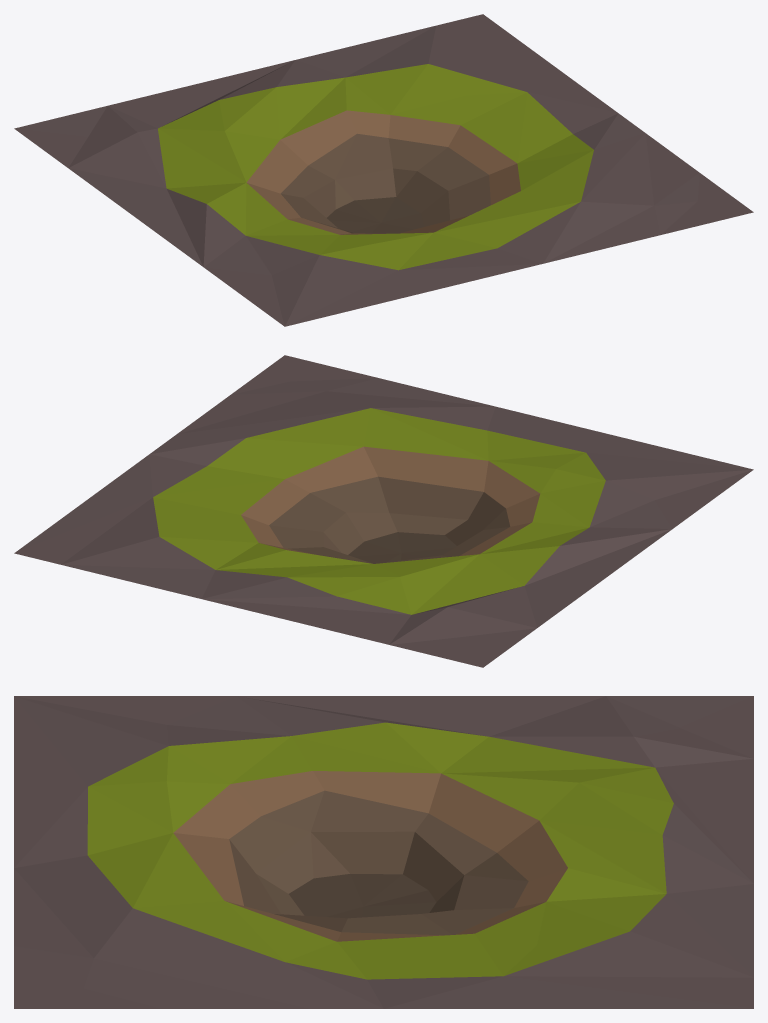
The model's file is TB_D_Env_Tile_Oasis_C.FBX.
3 views of the same model, one above another, from view 1: azimuth 30°, elevation 25°; view 2: azimuth 150°, elevation 25°; view 3: azimuth 270°, elevation 25° (orthographic). The views are drawn at different scales.
Parts seen in each view (by area): view 1: TB_D_Env_Tile_Oasis_C; view 2: TB_D_Env_Tile_Oasis_C; view 3: TB_D_Env_Tile_Oasis_C.
Part boxes in pixels (left/top/right/bottom): TB_D_Env_Tile_Oasis_C: left=14, top=14, right=753, bottom=326; TB_D_Env_Tile_Oasis_C: left=14, top=355, right=753, bottom=667; TB_D_Env_Tile_Oasis_C: left=14, top=696, right=753, bottom=1008.
Size of the model in its own units: 20 by 2.24 by 20.
